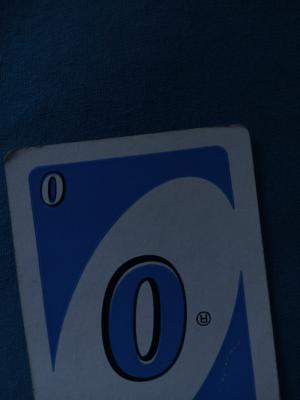blue: (28, 160, 247, 382)
num_0: (32, 167, 74, 211)
